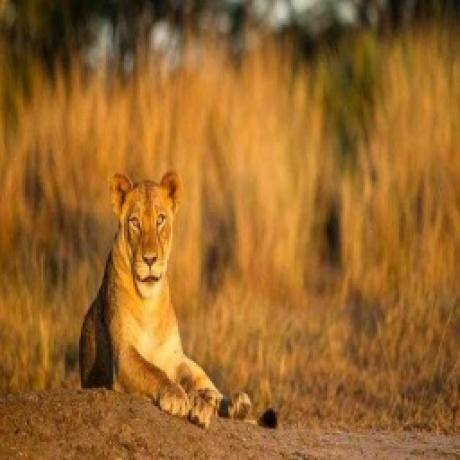Lion: (81, 168, 280, 432)
